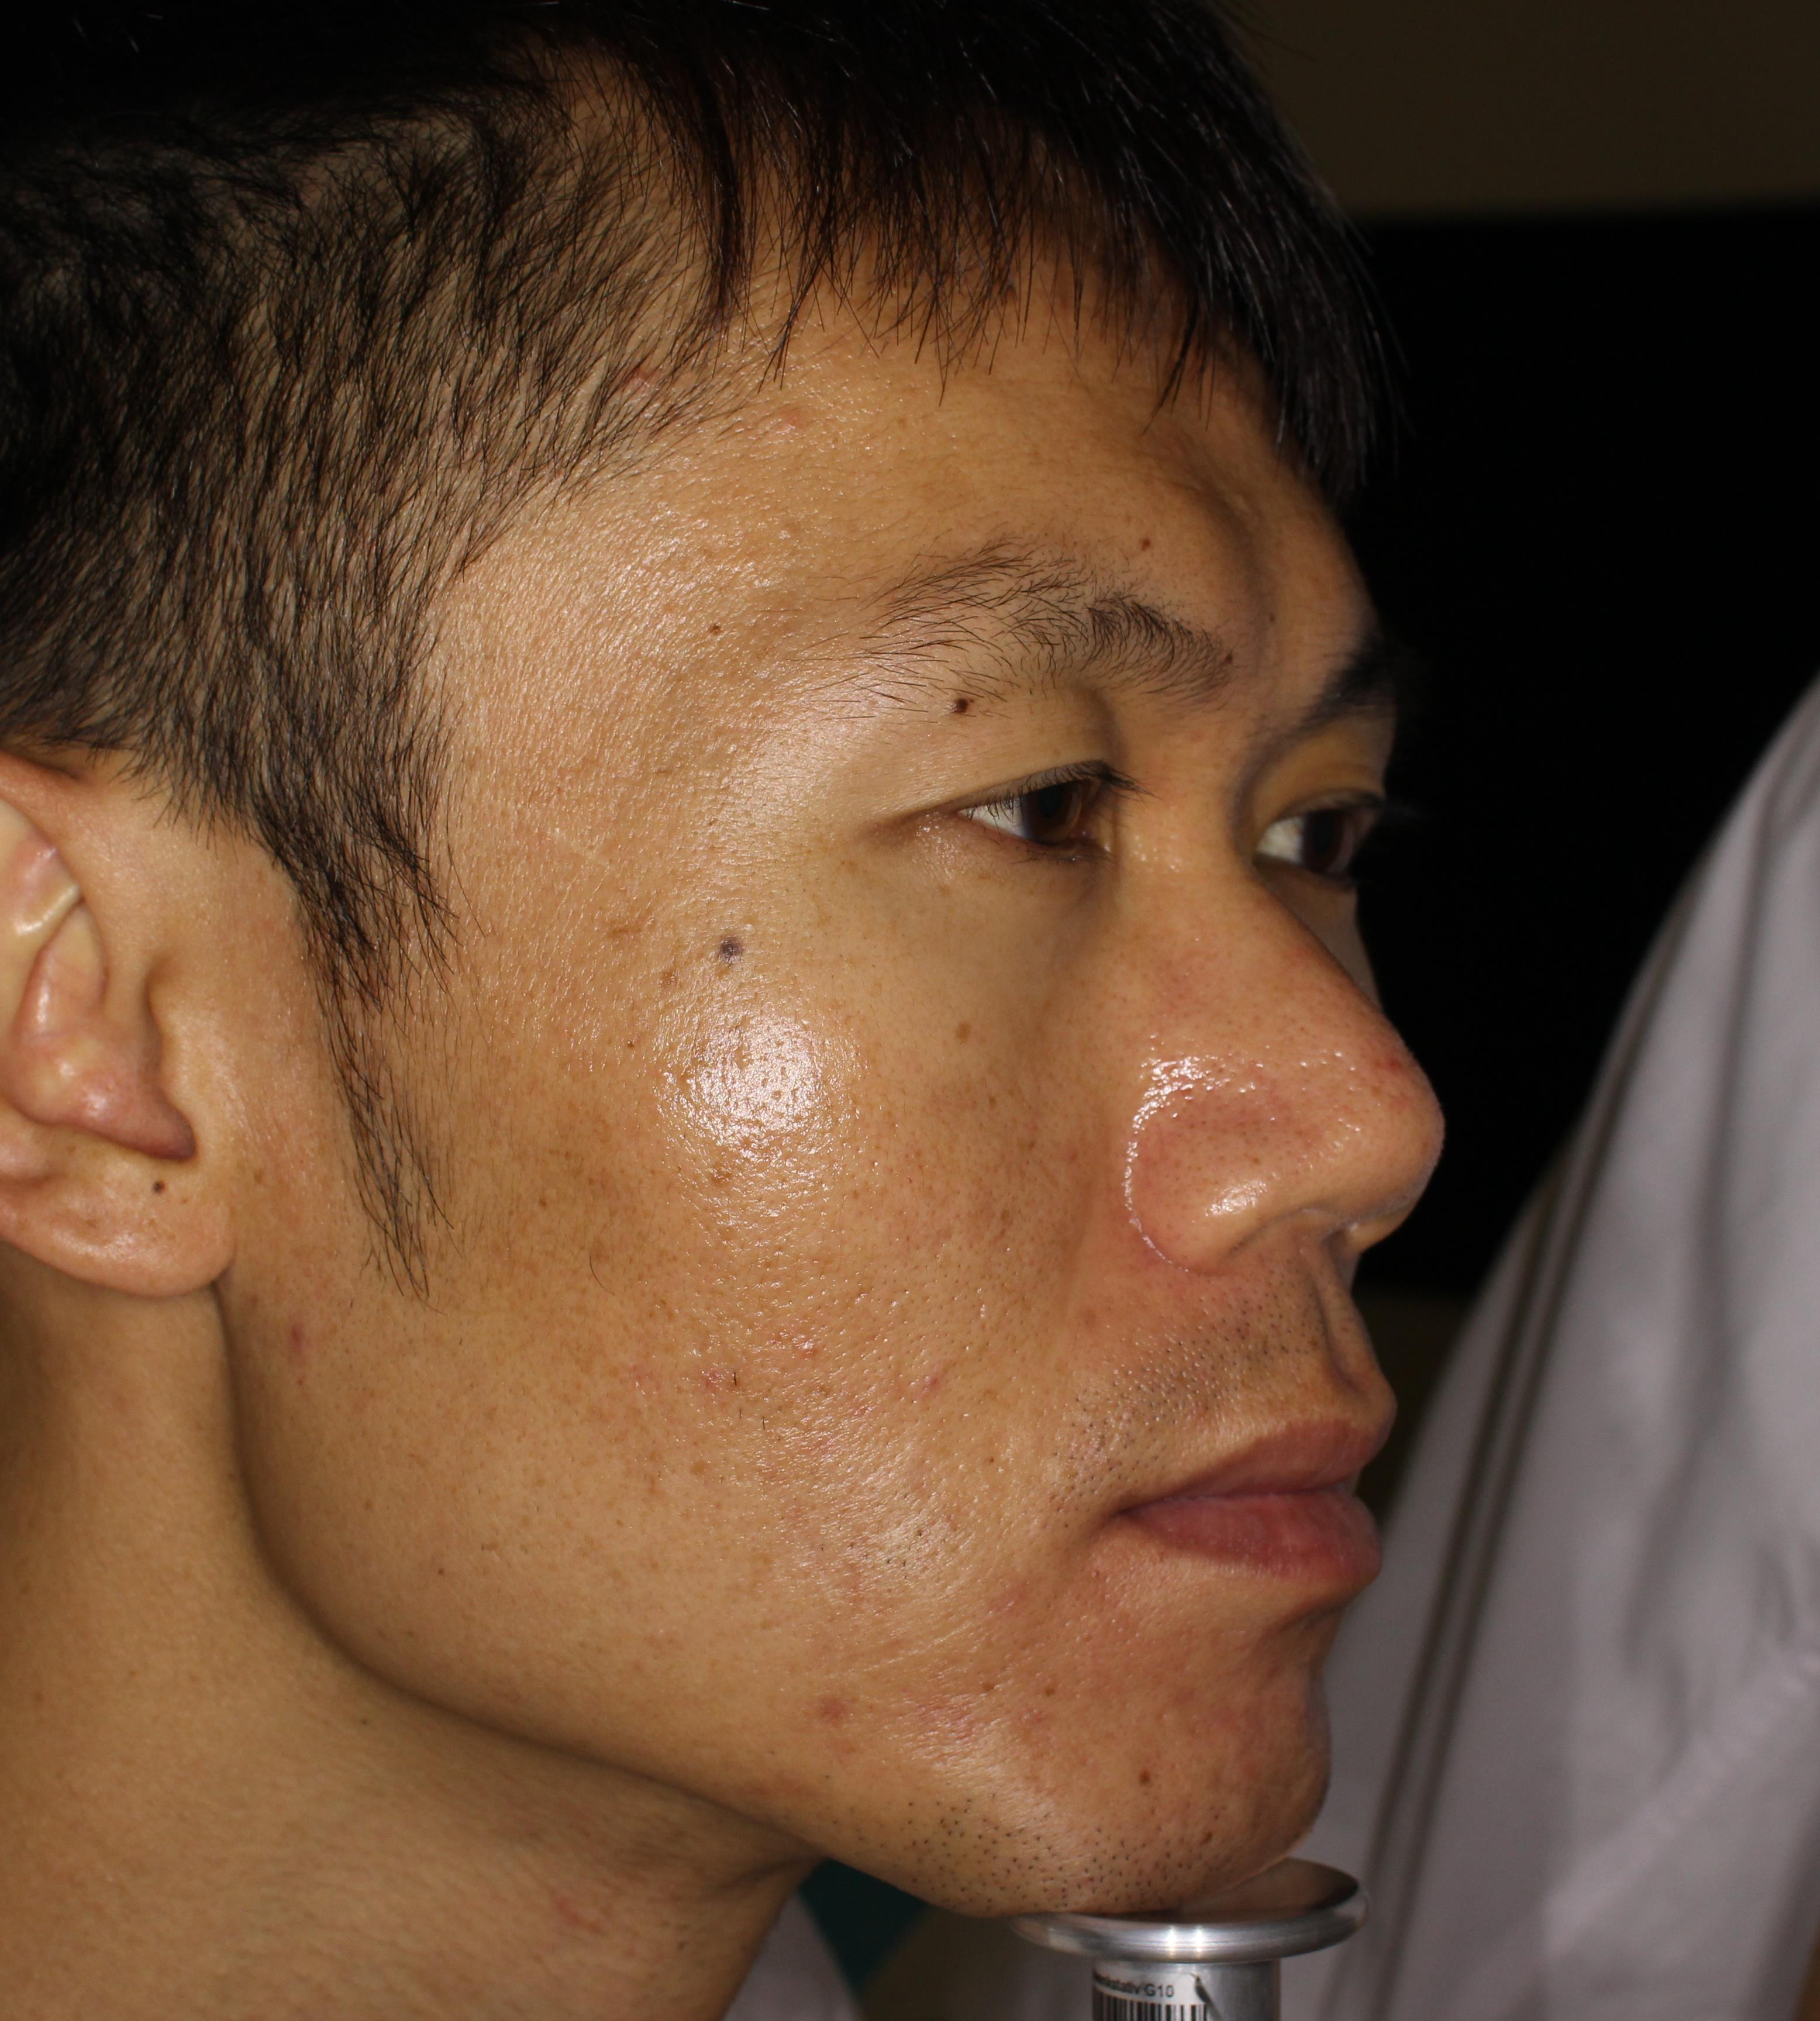fore: (740, 388, 812, 465), (1369, 1043, 1426, 1115)
